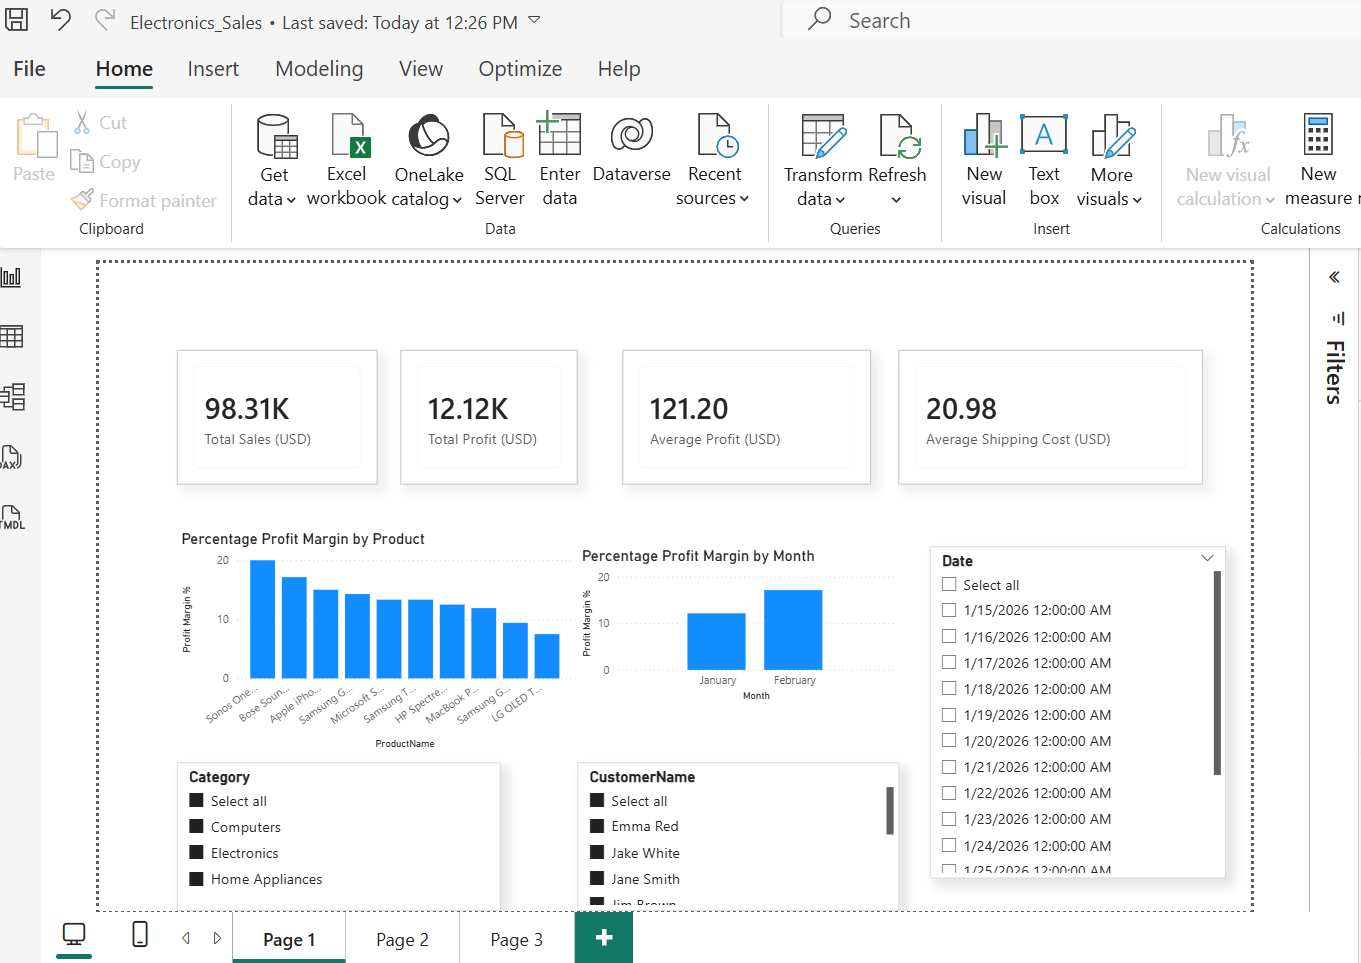

Layout of this report page (visuals, bound fields, positions):
{"tool":"powerbi","page":{"name":"Page 1","canvas":[1280,720],"ordinal":0},"visuals":[{"type":"cardVisual","fields":{"Data":["electrinicSales.Total Sales"]},"box":[86.9,96.4,223,149.3],"z":0},{"type":"cardVisual","fields":{"Data":["electrinicSales.Total Profit (USD)"]},"box":[334.5,96.4,196.5,149.3],"z":1000},{"type":"columnChart","title":"Percentage Profit Margin by Product","fields":{"Y":["electrinicSales.Profit Margin %"],"Category":["electrinicSales.ProductName"]},"box":[86.9,296.7,444.1,247.6],"z":2000},{"type":"columnChart","title":"Percentage Profit Margin by Month","fields":{"Category":["electrinicSales.DeliveryDate.Variation.Date Hierarchy.Month"],"Y":["electrinicSales.Profit Margin %"]},"box":[531,315.6,357.2,175.7],"z":3000},{"type":"cardVisual","fields":{"Data":["electronicSales.Average Profit (uSD)"]},"box":[582.1,96.4,275.9,149.3],"z":4000},{"type":"cardVisual","fields":{"Data":["electronicSales.Average Shipping Cost (USD)"]},"box":[888.2,96.4,338.3,149.3],"z":5000},{"type":"slicer","fields":{"Values":["electronicSales.Category"]},"box":[86.9,555.6,359.1,164.4],"z":6000},{"type":"slicer","fields":{"Values":["electronicSales.CustomerName"]},"box":[531,555.6,357.2,164.4],"z":7000},{"type":"slicer","fields":{"Values":["DateTable.Date"]},"box":[924.1,315.6,328.8,368.5],"z":8000}]}

Visuals, with their boxes on the page's 1280x720 design canvas (x1, y1, x2, y2). These are canvas units, not pixel positions in the 1361x963 screenshot, which may show the page scaled, cropped or inside an application window:
cardVisual - electrinicSales.Total Sales: (x1=87, y1=96, x2=310, y2=246)
cardVisual - electrinicSales.Total Profit (USD): (x1=334, y1=96, x2=531, y2=246)
"Percentage Profit Margin by Product" columnChart: (x1=87, y1=297, x2=531, y2=544)
"Percentage Profit Margin by Month" columnChart: (x1=531, y1=316, x2=888, y2=491)
cardVisual - electronicSales.Average Profit (uSD): (x1=582, y1=96, x2=858, y2=246)
cardVisual - electronicSales.Average Shipping Cost (USD): (x1=888, y1=96, x2=1226, y2=246)
slicer - electronicSales.Category: (x1=87, y1=556, x2=446, y2=720)
slicer - electronicSales.CustomerName: (x1=531, y1=556, x2=888, y2=720)
slicer - DateTable.Date: (x1=924, y1=316, x2=1253, y2=684)
